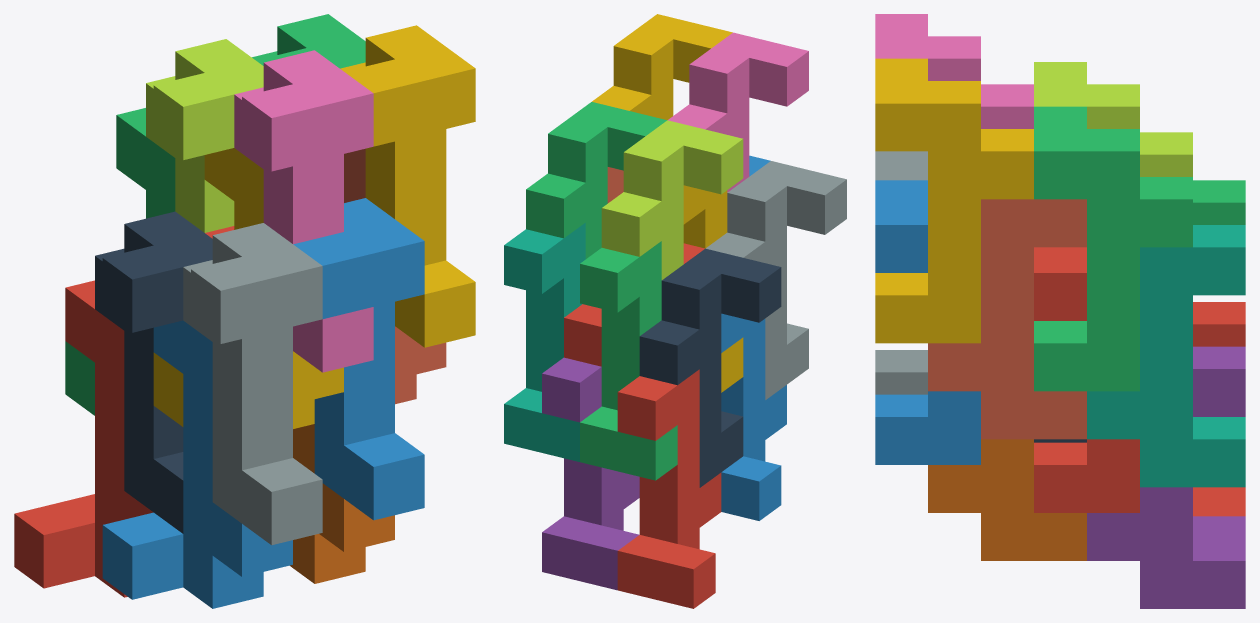
File: tiling.obj
The picture shows the model from 3 angles, left to right: view 1: azimuth 30°, elevation 25°; view 2: azimuth 150°, elevation 25°; view 3: azimuth 270°, elevation 25°; orthographic projection. The views are drawn at different scales.
Visible parts, largest first — view 1: copy_2_domain_2, copy_2_domain_6, copy_2_domain_8, copy_2_domain_4, copy_1_domain_2, copy_2_domain_1, copy_1_domain_1, copy_2_domain_3, copy_1_domain_4, copy_1_domain_6, copy_1_domain_3, copy_2_domain_7 (+1 smaller); view 2: copy_1_domain_1, copy_2_domain_1, copy_1_domain_3, copy_2_domain_3, copy_2_domain_2, copy_1_domain_5, copy_1_domain_7, copy_2_domain_7, copy_2_domain_4, copy_1_domain_2, copy_2_domain_8, copy_1_domain_4 (+2 smaller); view 3: copy_2_domain_7, copy_2_domain_8, copy_1_domain_7, copy_1_domain_8, copy_1_domain_5, copy_2_domain_6, copy_2_domain_5, copy_1_domain_6, copy_2_domain_3, copy_2_domain_4, copy_1_domain_1, copy_2_domain_2 (+1 smaller).
Boxes of the visible parts, <box> form: copy_2_domain_2: <box>183,223,322,545</box>; copy_2_domain_6: <box>293,198,424,520</box>; copy_2_domain_8: <box>340,25,475,347</box>; copy_2_domain_4: <box>234,50,373,372</box>; copy_1_domain_2: <box>102,320,292,608</box>; copy_2_domain_1: <box>95,211,212,533</box>; copy_1_domain_1: <box>14,280,153,597</box>; copy_2_domain_3: <box>146,39,263,232</box>; copy_1_domain_4: <box>153,148,343,428</box>; copy_1_domain_6: <box>290,424,394,583</box>; copy_1_domain_3: <box>65,108,175,415</box>; copy_2_domain_7: <box>252,14,365,68</box>; copy_1_domain_1: <box>617,369,721,608</box>; copy_2_domain_1: <box>639,248,781,487</box>; copy_1_domain_3: <box>580,241,677,480</box>; copy_2_domain_3: <box>601,120,743,279</box>; copy_2_domain_2: <box>706,161,846,399</box>; copy_1_domain_5: <box>542,357,639,590</box>; copy_1_domain_7: <box>504,223,585,461</box>; copy_2_domain_7: <box>526,102,666,258</box>; copy_2_domain_4: <box>668,32,808,192</box>; copy_1_domain_2: <box>721,313,786,520</box>; copy_2_domain_8: <box>592,14,732,120</box>; copy_1_domain_4: <box>683,185,743,392</box>; copy_2_domain_7: <box>1034,106,1192,391</box>; copy_2_domain_8: <box>875,58,1033,343</box>; copy_1_domain_7: <box>1087,225,1245,487</box>; copy_1_domain_8: <box>928,199,1086,439</box>; copy_1_domain_5: <box>1087,346,1245,608</box>; copy_2_domain_6: <box>875,180,980,464</box>; copy_2_domain_5: <box>1034,247,1139,512</box>; copy_1_domain_6: <box>928,439,1086,560</box>; copy_2_domain_3: <box>1034,62,1192,176</box>; copy_2_domain_4: <box>875,14,1033,128</box>; copy_1_domain_1: <box>1193,302,1245,516</box>; copy_2_domain_2: <box>875,151,927,394</box>.
Size of the model in its own units: 5 by 11 by 7.
